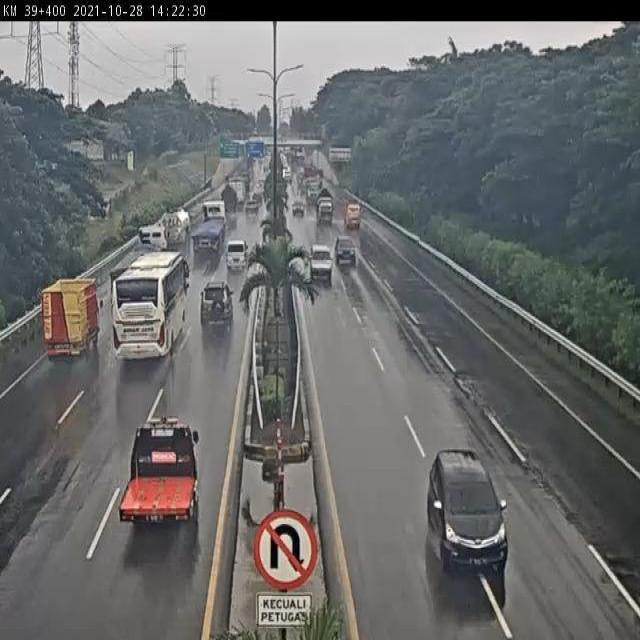car: (429, 451, 512, 575), (307, 242, 333, 286), (225, 241, 248, 271)
truck: (118, 416, 203, 528), (112, 252, 190, 357), (42, 279, 98, 361), (107, 226, 170, 286), (192, 200, 226, 249), (157, 207, 193, 252)
